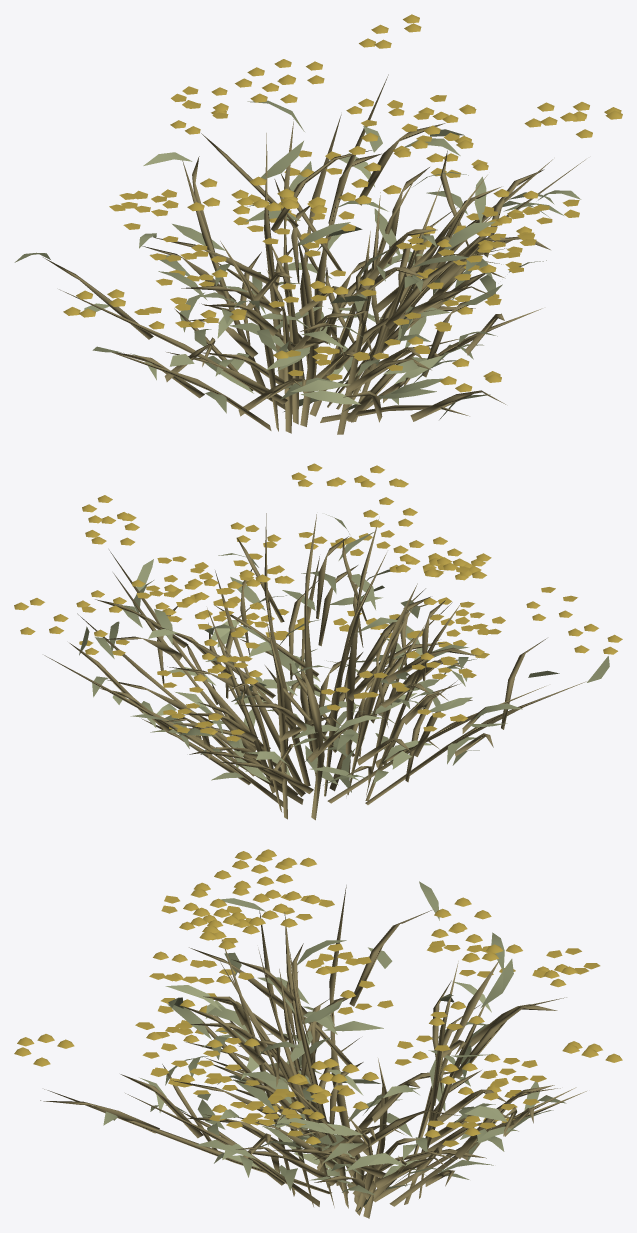
Rendered from Immortelle_Jeune_LOD2.fbx.
3 renders of one model, top to bottom at view 1: azimuth 30°, elevation 25°; view 2: azimuth 150°, elevation 25°; view 3: azimuth 270°, elevation 25°, orthographic. The views are drawn at different scales.
Visible parts, largest first — view 1: Immortelle_Jeune_LOD2; view 2: Immortelle_Jeune_LOD2; view 3: Immortelle_Jeune_LOD2.
Part boxes in pixels (x1,y1,x2,y2): Immortelle_Jeune_LOD2: [14, 14, 622, 434]; Immortelle_Jeune_LOD2: [14, 463, 622, 820]; Immortelle_Jeune_LOD2: [14, 849, 622, 1218].
Bounding box in the file's own units: 47.18 × 25.01 × 43.35.
